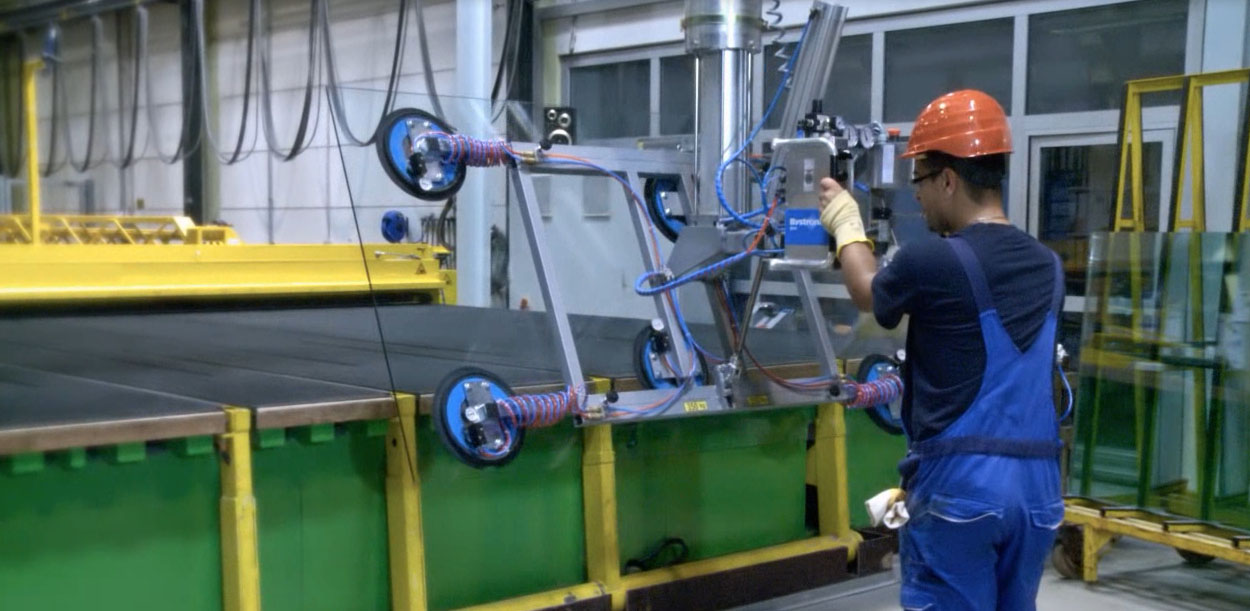Hard Hat: (903, 82, 1015, 159)
